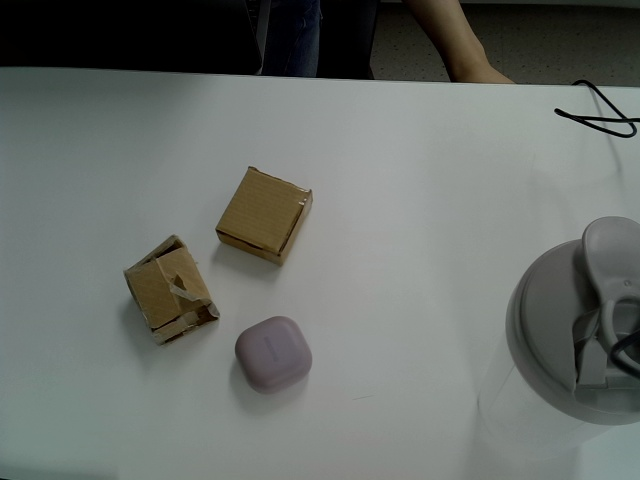defect: (123, 234, 223, 348)
normal: (215, 167, 316, 267)
